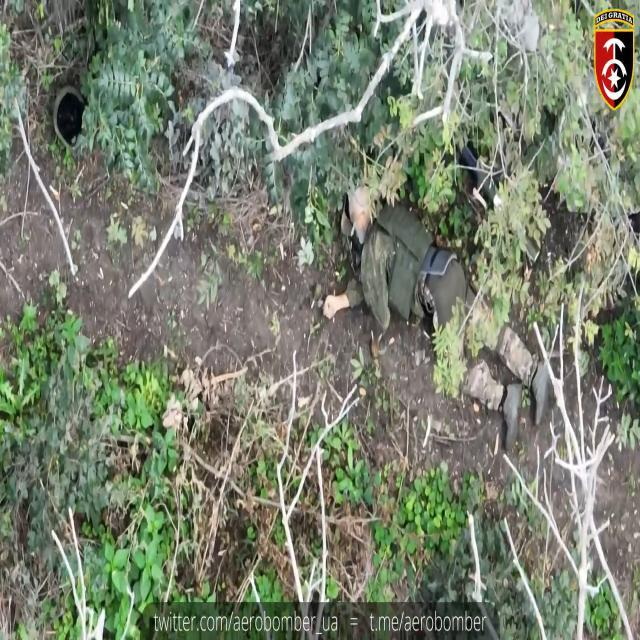MIL_Pax: (322, 147, 548, 449)
